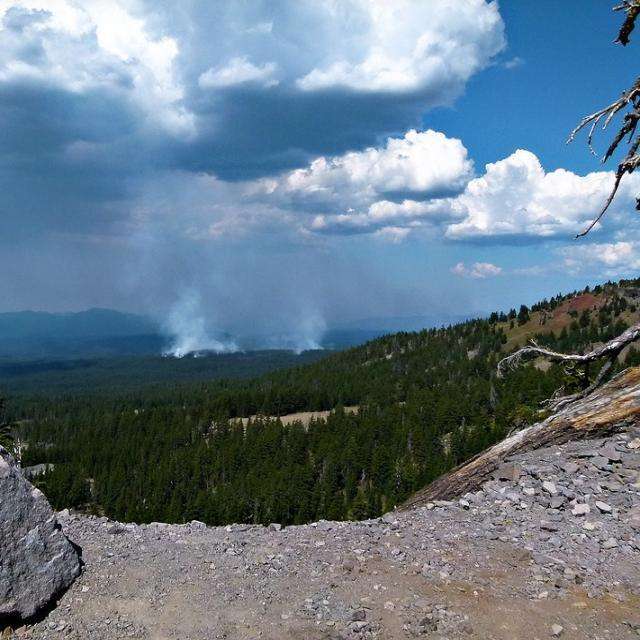Smoke: (159, 298, 246, 360), (270, 310, 324, 355)
